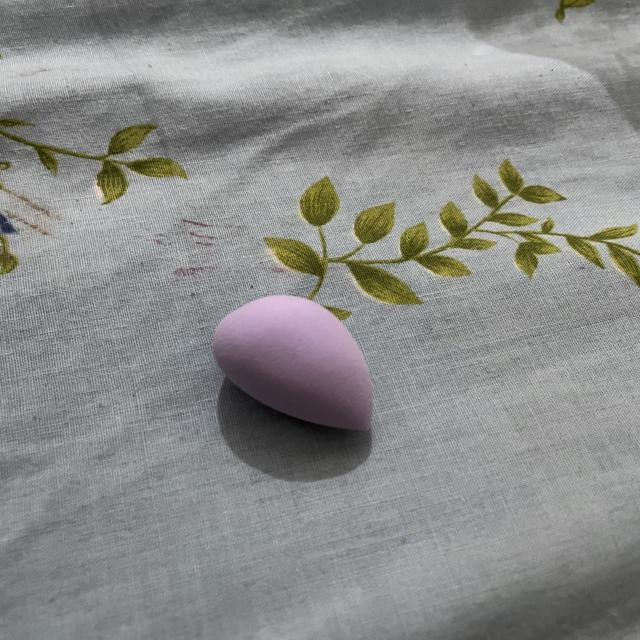beauty blender: (195, 289, 407, 449)
